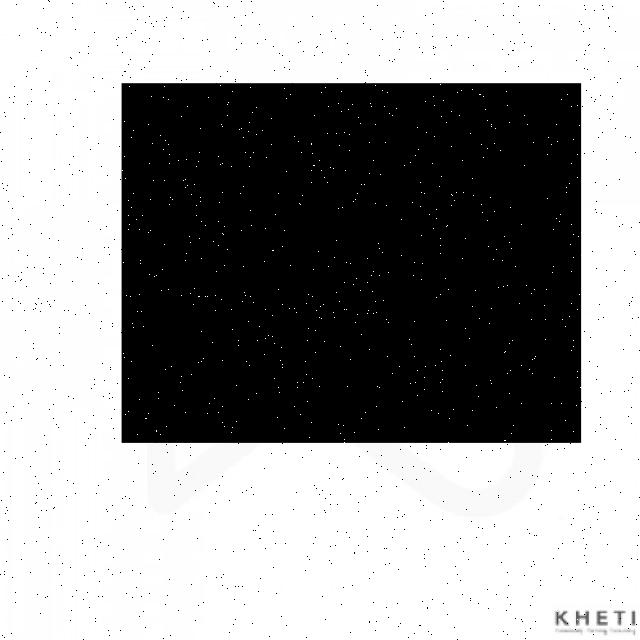Palungo: (122, 83, 582, 443)
